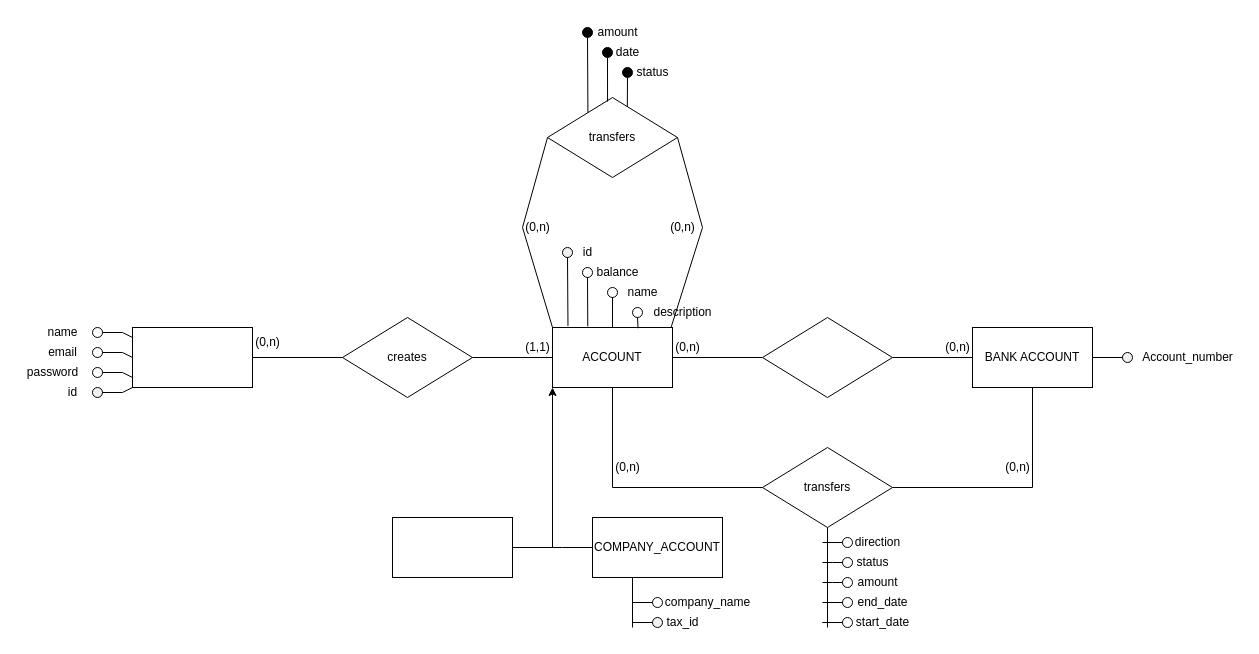
Some shapes in this 1259 by 654 pixel diagram are drawn without their labels. The centre of each missing label's shape, as x and y in pixels:
is associated: (827,357)
NORMAL_ACCOUNT: (452,547)
USER: (192,357)
